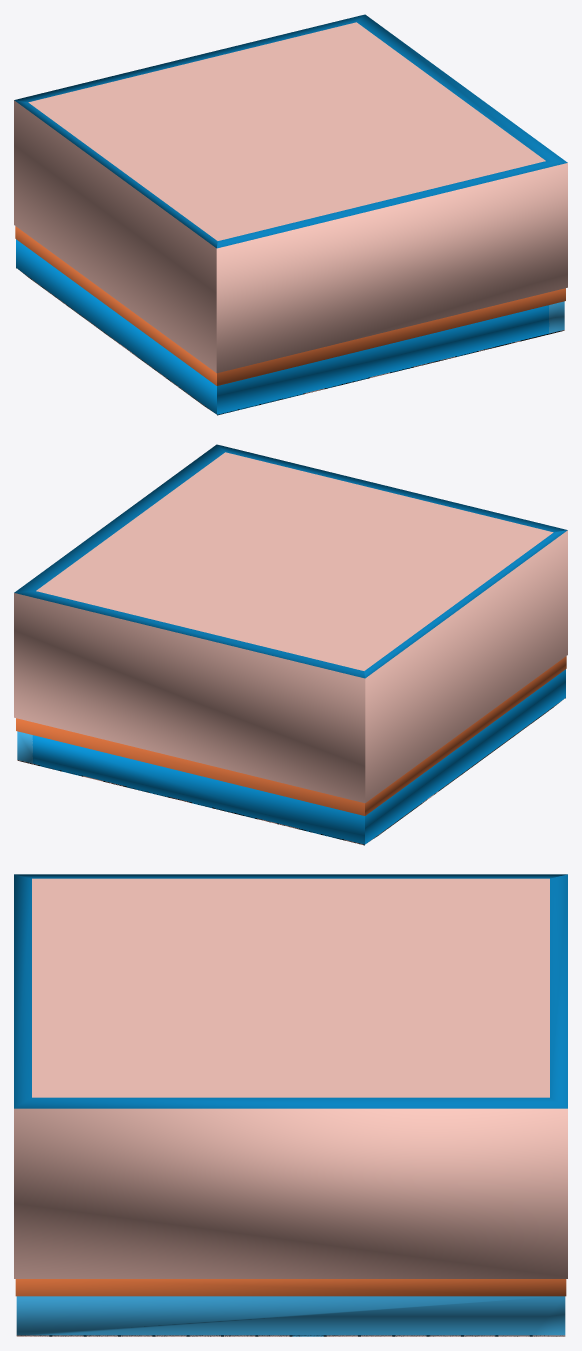
The model's file is test-box-dull.glb.
3 renders of one model, top to bottom at view 1: azimuth 30°, elevation 25°; view 2: azimuth 150°, elevation 25°; view 3: azimuth 270°, elevation 25°, orthographic. The views are drawn at different scales.
Visible parts, largest first — view 1: Plane; view 2: Plane; view 3: Plane.
Part boxes in pixels (box(x1,y1,x2,y2)): Plane: box(14, 14, 567, 415); Plane: box(14, 444, 567, 845); Plane: box(14, 874, 567, 1336).
Bounding box in the file's own units: 10.1 × 4.63 × 10.1.
Materials: 1 (1 with a texture image).
